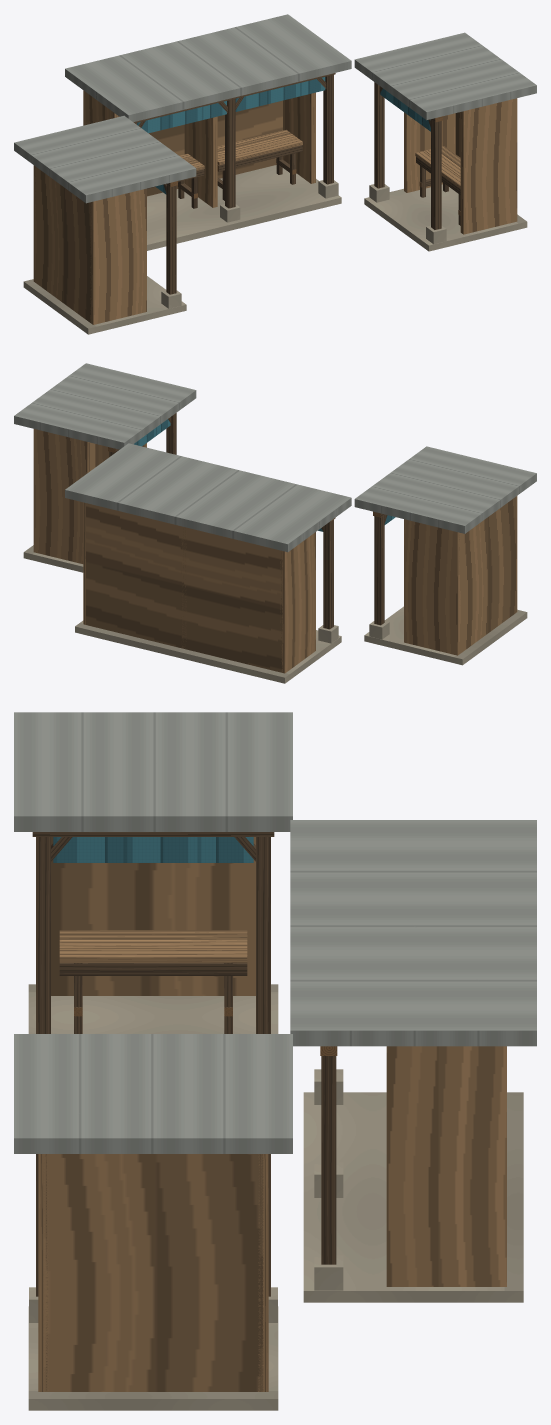
File: manama.glb
The picture shows the model from 3 angles, top to bottom: view 1: azimuth 30°, elevation 25°; view 2: azimuth 150°, elevation 25°; view 3: azimuth 270°, elevation 25°; orthographic projection. The views are drawn at different scales.
Visible parts, largest first — view 1: manama; view 2: manama; view 3: manama.
Part boxes in pixels (x1,y1,x2,y2): manama: (14,14,536,334); manama: (14,363,536,683); manama: (14,712,536,1410).
Bounding box in the file's own units: 7.4 × 2.25 × 3.84.
1 material, 1 textured.
